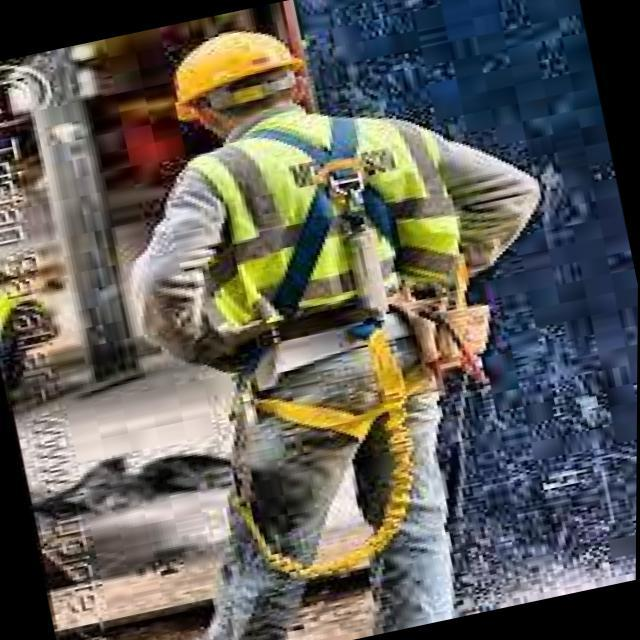belt: (177, 85, 515, 465)
